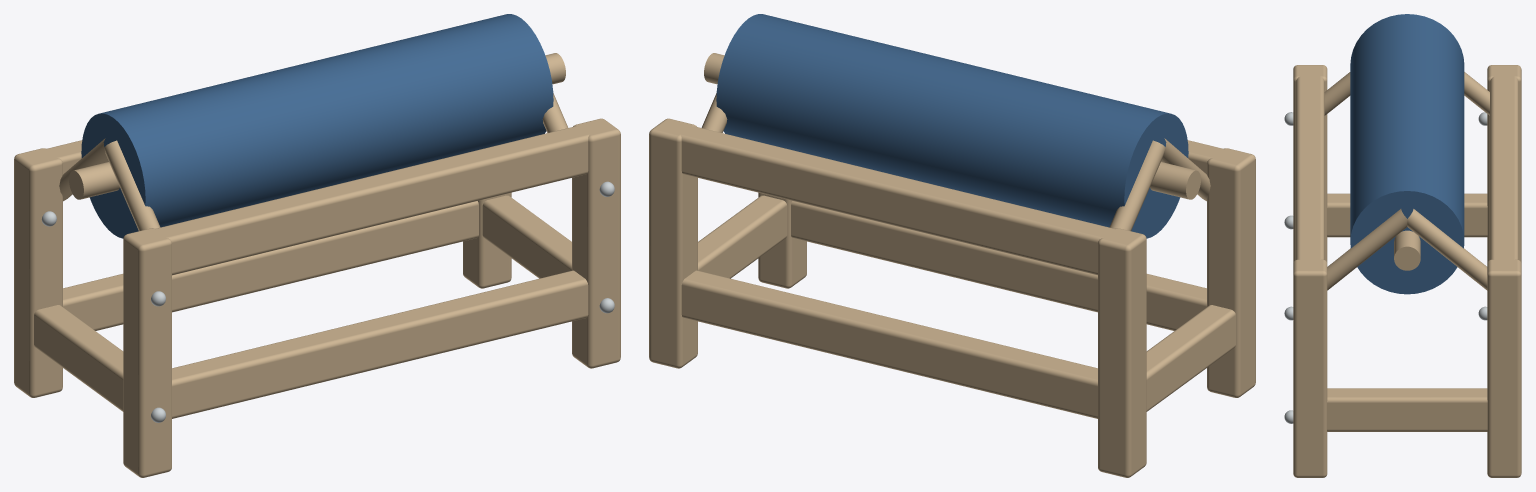
Rendered from textile-weaving-and-dye-workshop-fabric-bolt-cradle-14d3ff63__29560.glb.
3 renders of one model, left to right at view 1: azimuth 30°, elevation 25°; view 2: azimuth 150°, elevation 25°; view 3: azimuth 270°, elevation 25°, orthographic. The views are drawn at different scales.
Parts seen in each view (by area): view 1: fabric-bolt-cradle; view 2: fabric-bolt-cradle; view 3: fabric-bolt-cradle.
Part boxes in pixels (x1,y1,x2,y2): fabric-bolt-cradle: (14,14,620,477); fabric-bolt-cradle: (649,14,1255,477); fabric-bolt-cradle: (1284,14,1521,477).
Size of the model in its own units: 1.3 by 0.79 by 0.6229.
